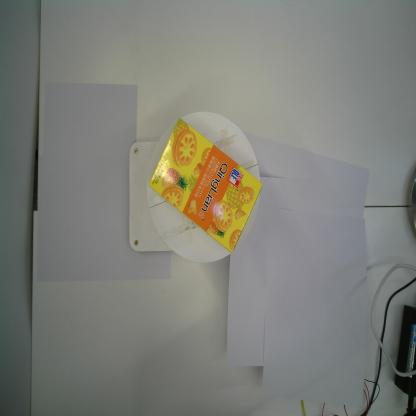Dessert: (148, 115, 263, 256)
